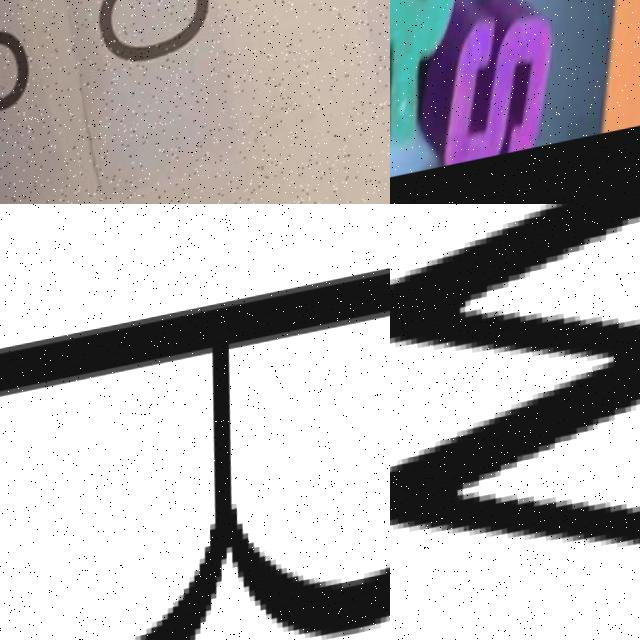0: (81, 0, 234, 100)
9: (0, 14, 52, 142)
B: (0, 268, 390, 640)
S: (429, 0, 580, 177)
W: (390, 204, 640, 640)
